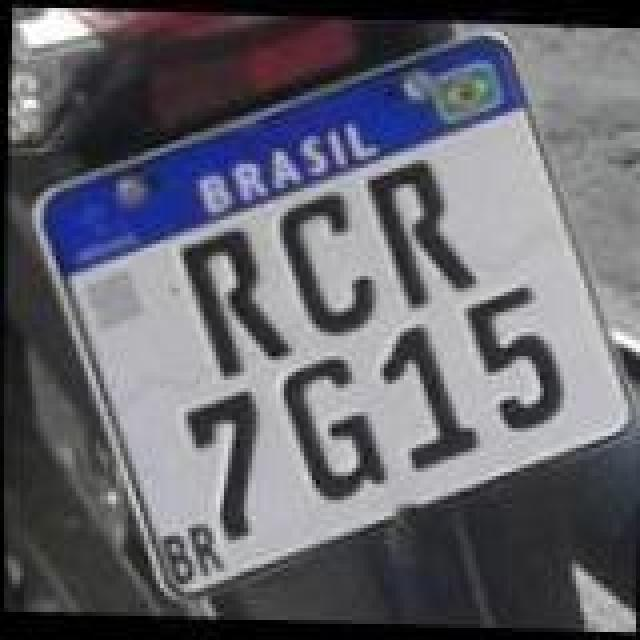1: (372, 316, 492, 476)
5: (456, 280, 568, 428)
7: (178, 390, 270, 546)
C: (280, 184, 384, 344)
G: (278, 344, 390, 504)
R: (174, 222, 294, 378), (364, 154, 480, 310)
